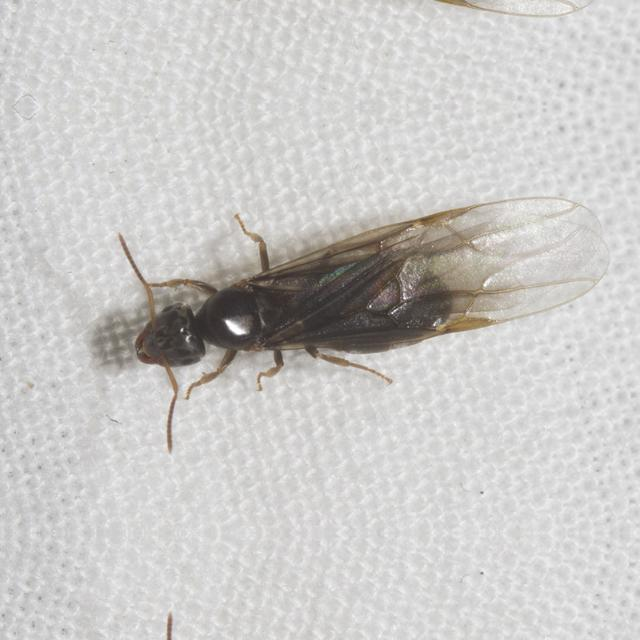Lasius: (87, 184, 616, 443)
